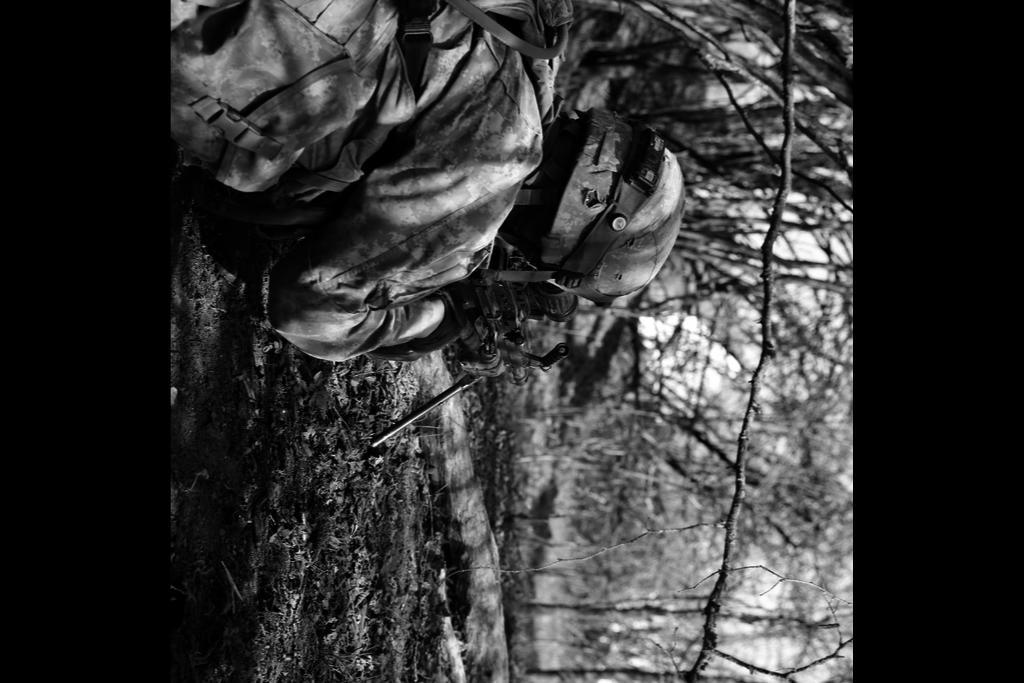gun: (372, 244, 580, 448)
